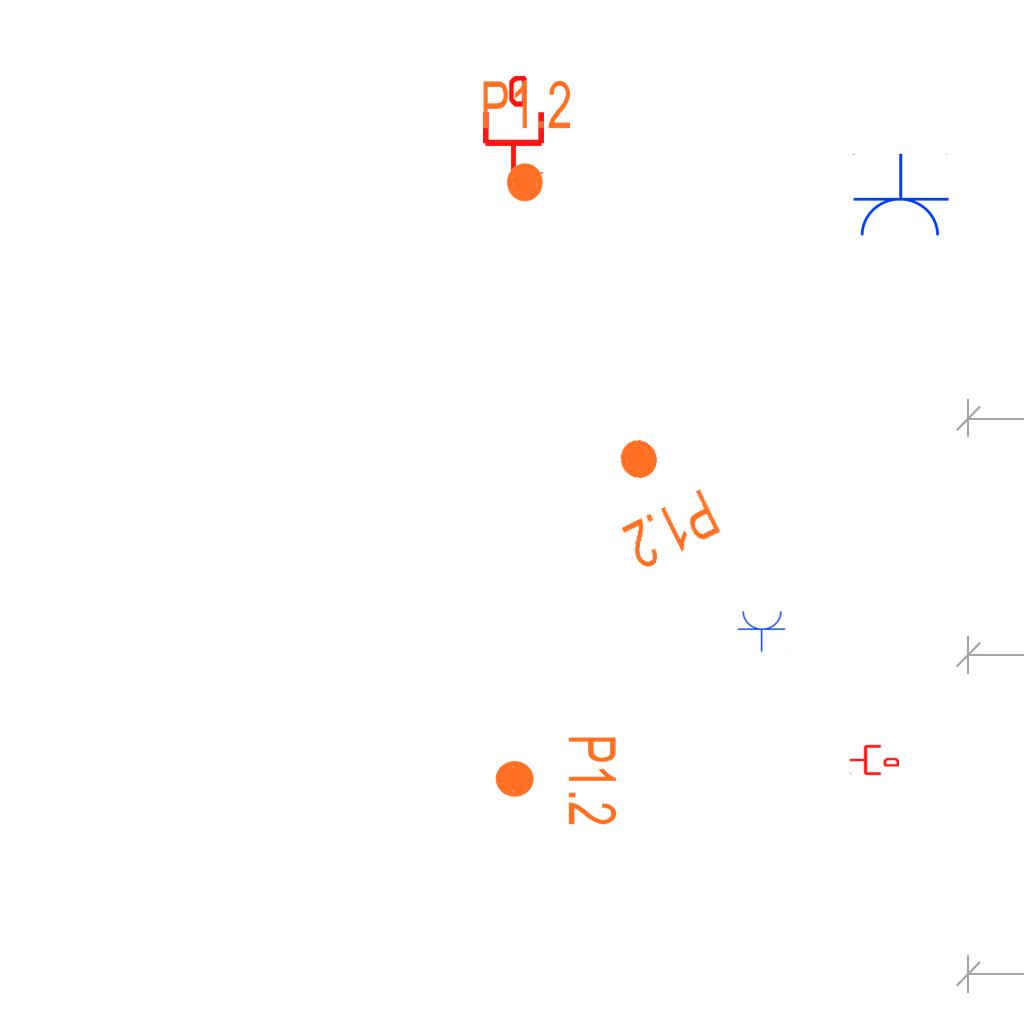Datenanschluss_einfach: (479, 76, 548, 176), (849, 743, 899, 777)
Downlight_LED_Einbauleuchten_Flur: (585, 419, 726, 575), (492, 734, 620, 827), (480, 77, 573, 205)
Schukosteckdose_einfach: (850, 153, 950, 240), (737, 609, 787, 652)
